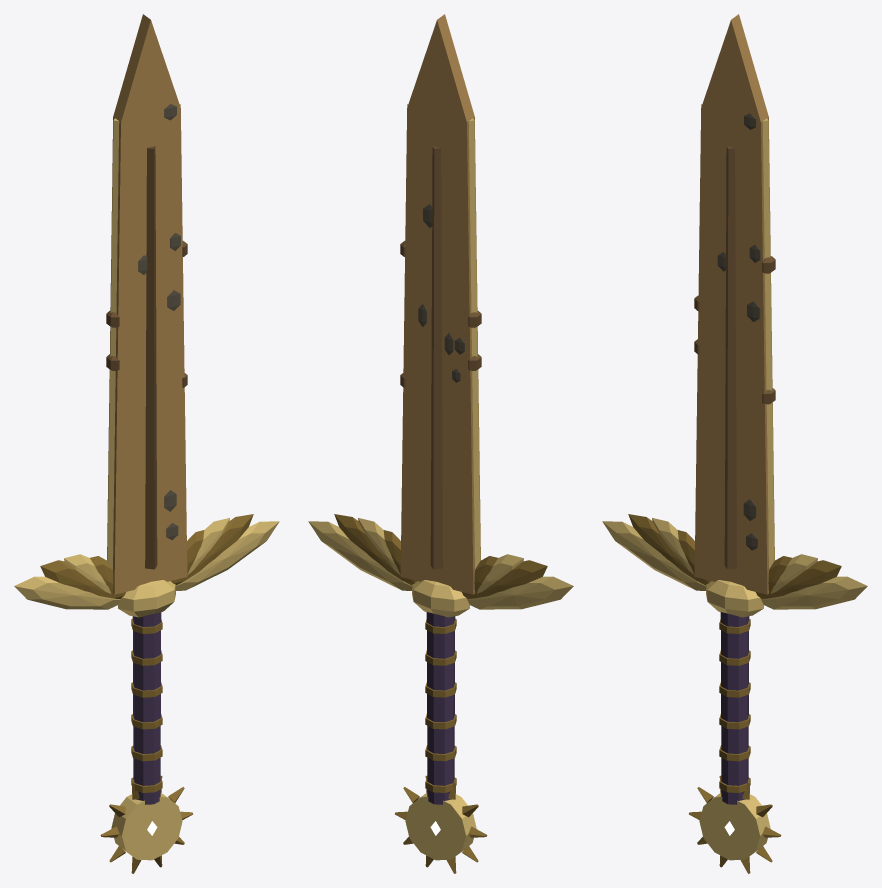
File: marshal_greatsword.glb
3 views of the same model, side by side, from view 1: azimuth 30°, elevation 25°; view 2: azimuth 150°, elevation 25°; view 3: azimuth 330°, elevation 25° (orthographic).
Parts seen in each view (by area): view 1: marshal_greatsword; view 2: marshal_greatsword; view 3: marshal_greatsword.
Part boxes in pixels (<box>): marshal_greatsword: <box>14,14,279,873</box>; marshal_greatsword: <box>308,14,573,873</box>; marshal_greatsword: <box>602,14,867,873</box>.
Bounding box in the file's own units: 0.8751 × 2.68 × 0.1141.
